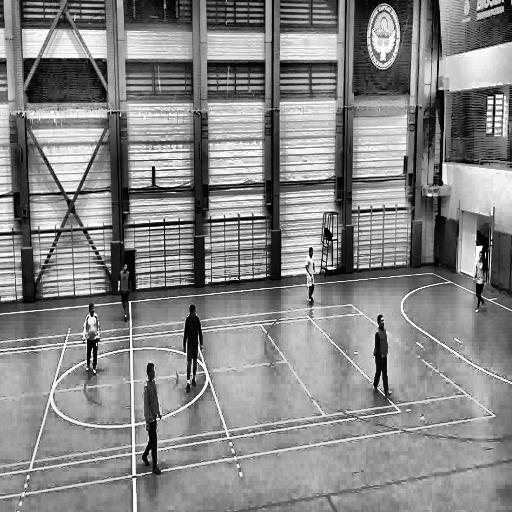player: (140, 358, 166, 480), (182, 303, 206, 400), (373, 310, 393, 403), (81, 302, 102, 376), (472, 249, 488, 314), (117, 262, 133, 324), (305, 240, 317, 314)
